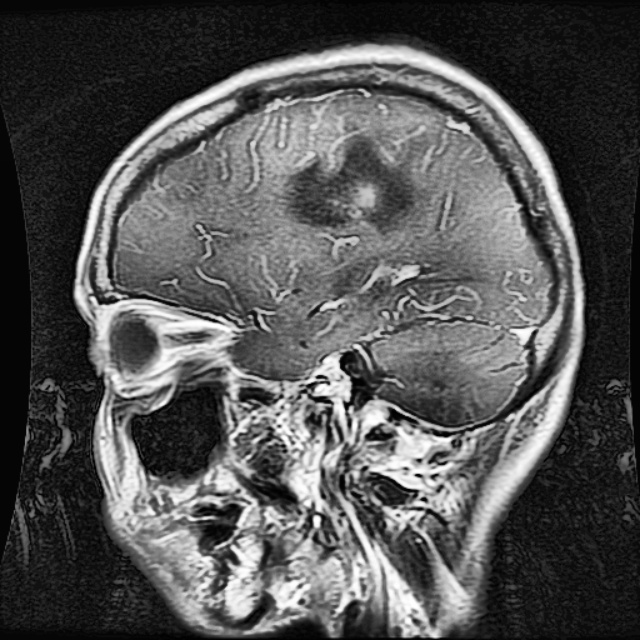Meningioma: (289, 118, 404, 230)
